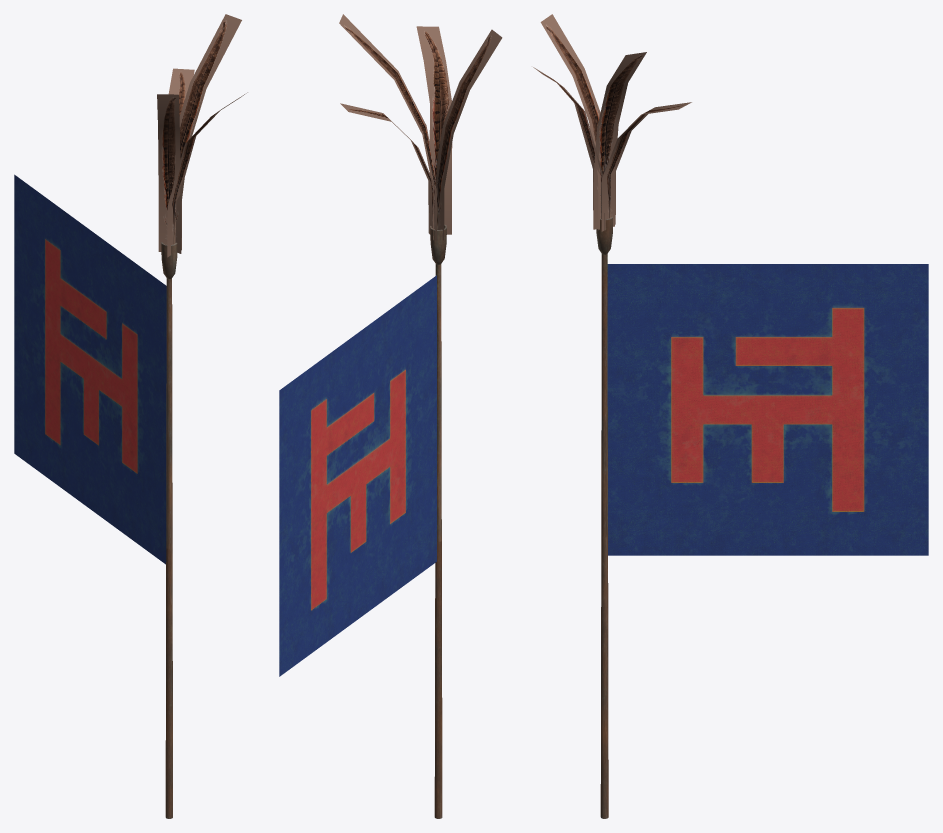
File: SM_Flag01a.fbx
3 renders of one model, left to right at view 1: azimuth 30°, elevation 25°; view 2: azimuth 150°, elevation 25°; view 3: azimuth 270°, elevation 25°, orthographic. The views are drawn at different scales.
Visible parts, largest first — view 1: SM_Flag01a; view 2: SM_Flag01a; view 3: SM_Flag01a.
Part boxes in pixels (x1=…): SM_Flag01a: x1=14, y1=14, x2=247, y2=818; SM_Flag01a: x1=279, y1=14, x2=502, y2=818; SM_Flag01a: x1=533, y1=14, x2=928, y2=818.
Size of the model in its own units: 140 by 855 by 383.
